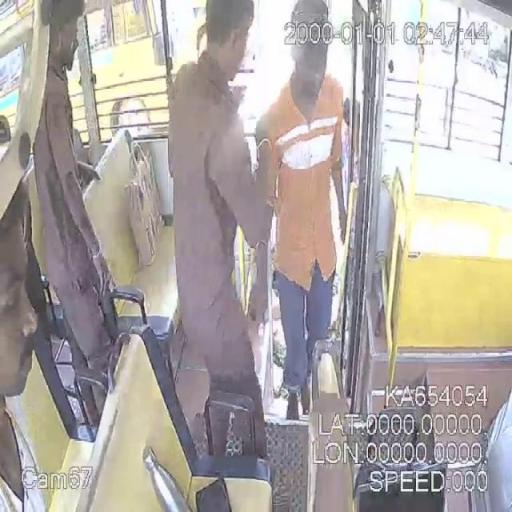persona: (165, 0, 274, 459), (254, 0, 350, 422), (30, 0, 125, 414), (2, 186, 56, 512)
